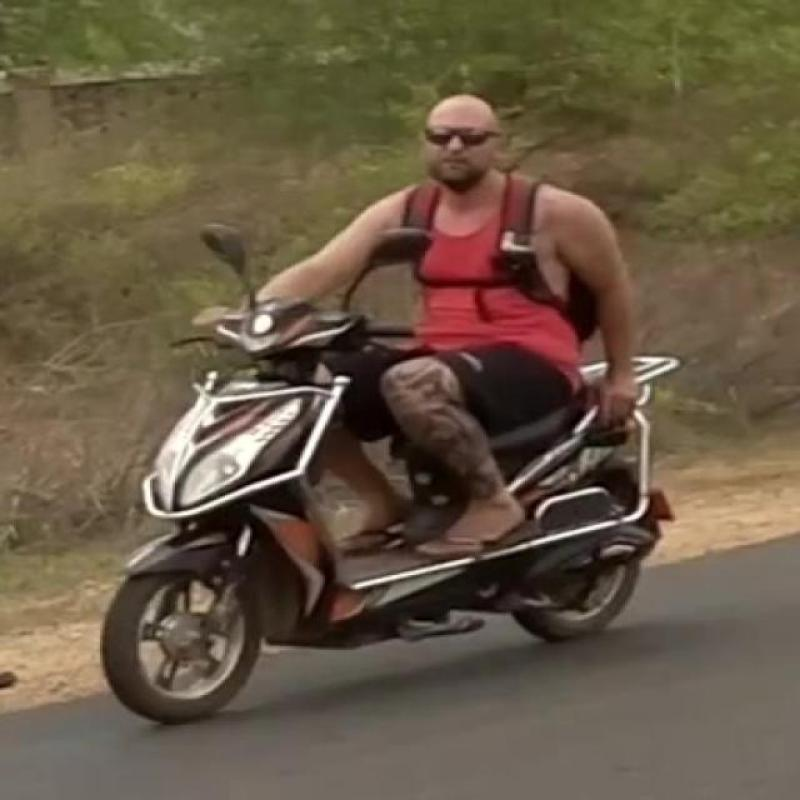nohelmet: (396, 56, 520, 219)
